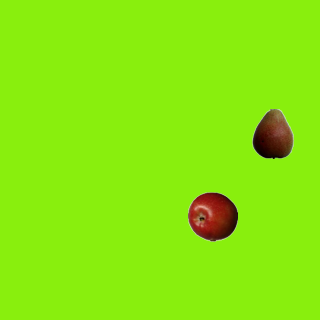Apple Braeburn: (187, 191, 237, 241)
Pear Forelle: (247, 108, 297, 158)
